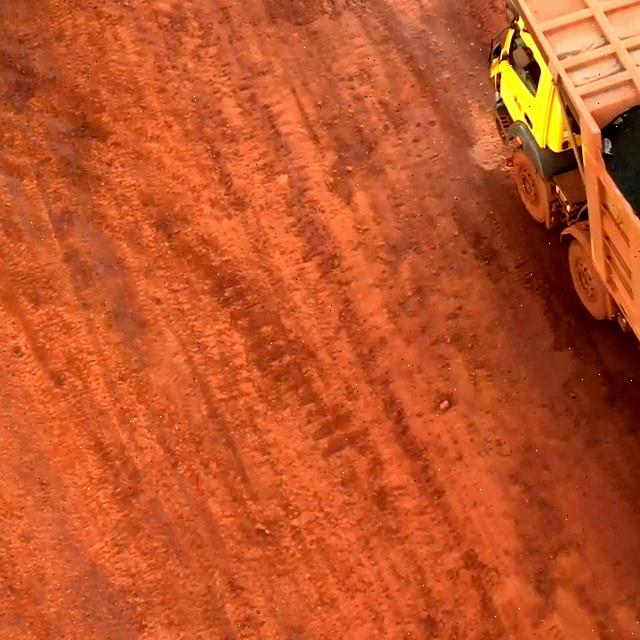Dumper truck: (499, 0, 640, 205)
